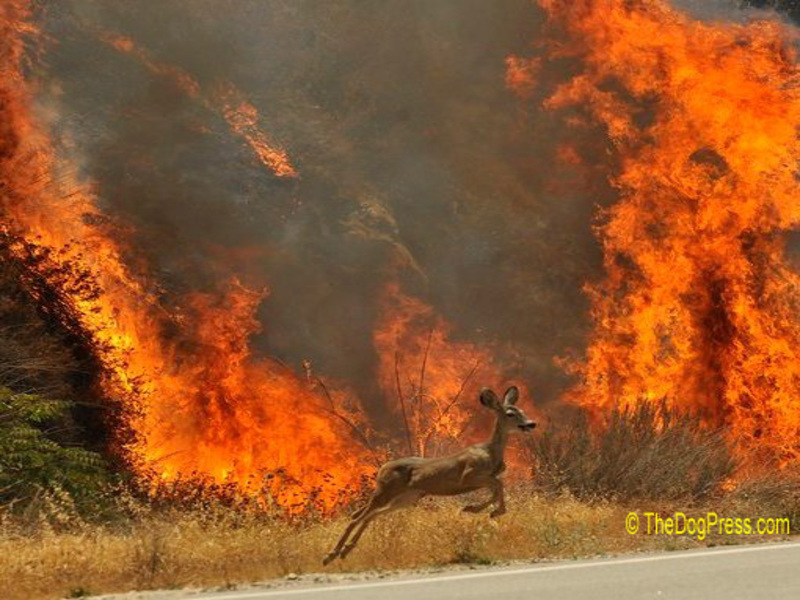fire: (21, 174, 367, 491), (558, 12, 800, 434)
